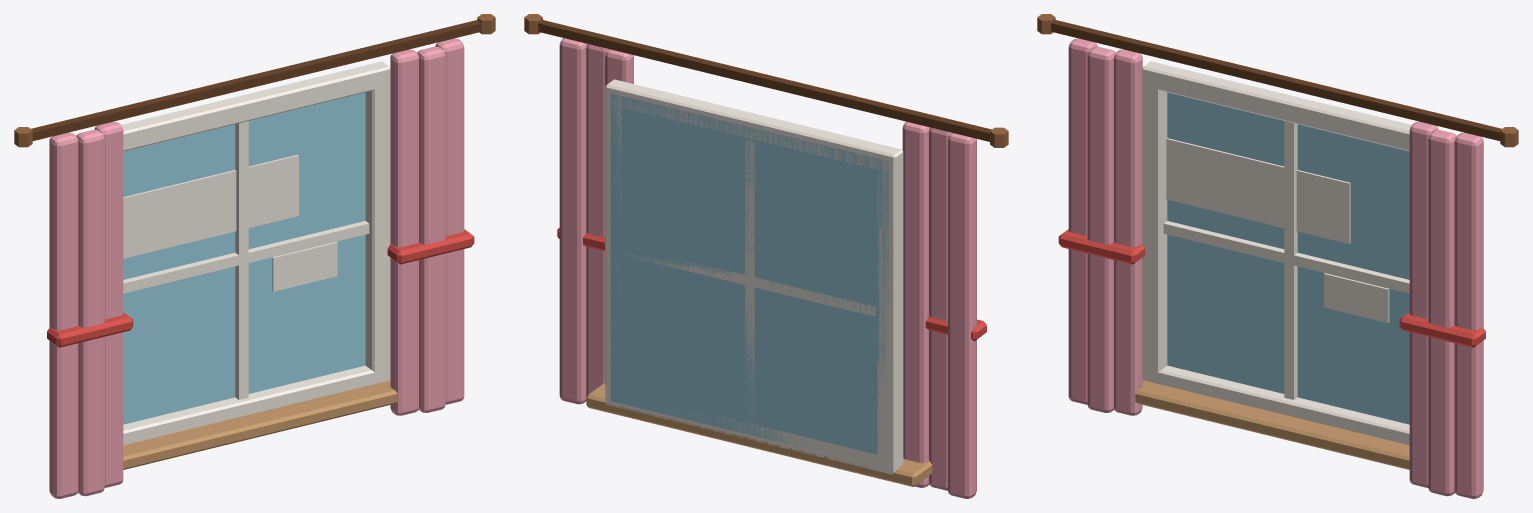
File: window.glb
The picture shows the model from 3 angles, left to right: view 1: azimuth 30°, elevation 25°; view 2: azimuth 150°, elevation 25°; view 3: azimuth 330°, elevation 25°; orthographic projection.
Parts seen in each view (by area): view 1: window; view 2: window; view 3: window.
Part boxes in pixels (x1=…): window: x1=14, y1=14, x2=495, y2=498; window: x1=524, y1=14, x2=1008, y2=498; window: x1=1037, y1=14, x2=1518, y2=498.
Size of the model in its own units: 1.48 by 1.11 by 0.155.
1 material, 1 textured.
